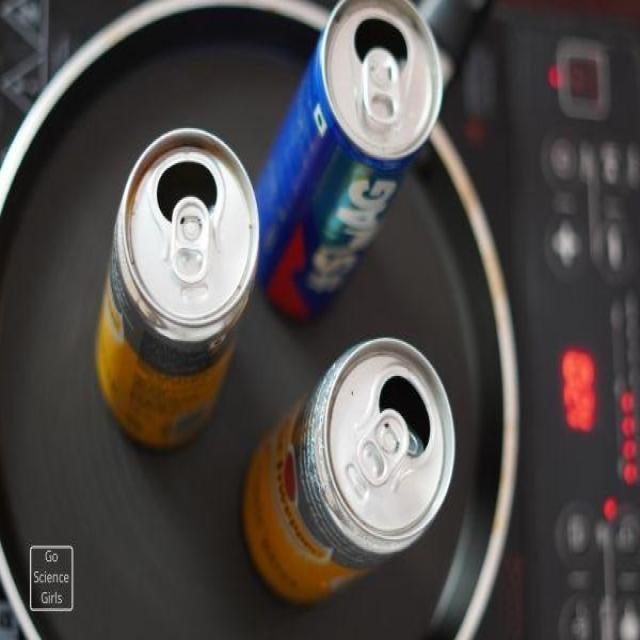can: (254, 0, 443, 326), (241, 334, 457, 604), (95, 123, 258, 449)
pop tab: (357, 410, 410, 486), (172, 194, 210, 282), (363, 46, 400, 125)
